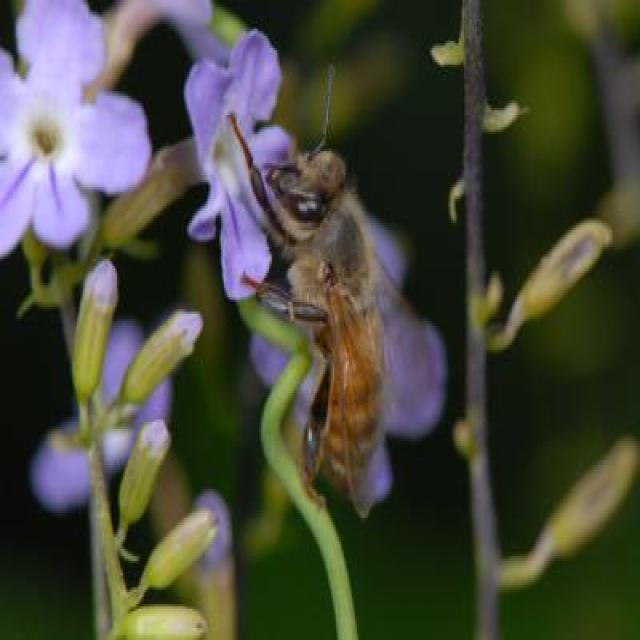antennae: (307, 66, 335, 160), (261, 157, 303, 177)
body: (261, 145, 389, 502)
insect: (226, 59, 440, 533)
legs: (228, 110, 300, 248), (239, 267, 330, 326)
mouthpart: (260, 149, 305, 196)
wings: (337, 255, 391, 521), (367, 247, 436, 422)
